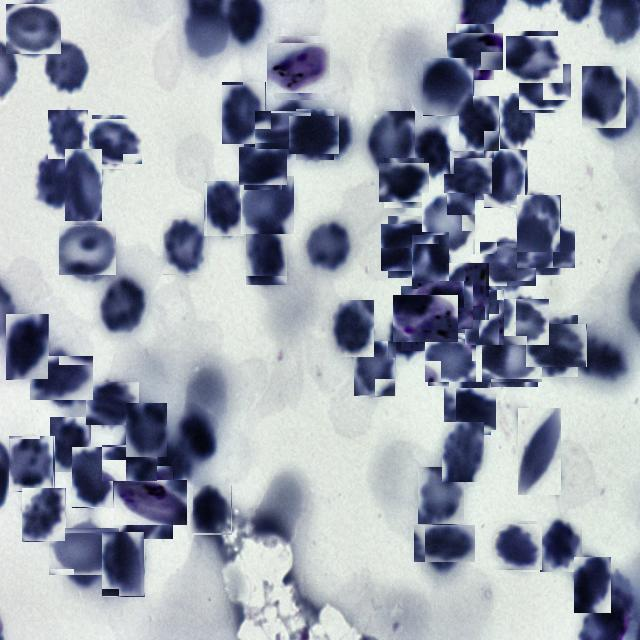red blood cell: (518, 408, 561, 495), (55, 522, 113, 582), (422, 193, 476, 255), (484, 328, 540, 384), (366, 111, 415, 175), (241, 176, 294, 234), (423, 58, 474, 116), (61, 223, 115, 277), (384, 220, 438, 274), (35, 351, 89, 405), (98, 276, 148, 334), (7, 2, 60, 56), (6, 314, 49, 380), (102, 532, 145, 597), (222, 82, 266, 145), (508, 33, 560, 86), (530, 319, 582, 372), (582, 66, 626, 128), (520, 220, 572, 272), (495, 296, 547, 348), (420, 279, 472, 331), (304, 218, 353, 273), (65, 149, 102, 221), (418, 467, 464, 524), (34, 151, 76, 213), (8, 436, 54, 492), (72, 447, 114, 508), (246, 225, 288, 286), (484, 150, 528, 208), (517, 195, 561, 253), (446, 263, 490, 321), (43, 39, 90, 93), (163, 219, 208, 275), (442, 422, 484, 482), (482, 240, 532, 290), (520, 62, 570, 112), (90, 116, 140, 166), (331, 300, 374, 357), (419, 518, 468, 568), (538, 518, 582, 572), (22, 488, 66, 542), (88, 379, 137, 427), (259, 105, 307, 154), (354, 341, 396, 396), (126, 403, 168, 458), (426, 336, 474, 384), (493, 522, 541, 570), (446, 384, 494, 432), (204, 181, 245, 237), (459, 96, 500, 152), (50, 417, 91, 472), (465, 290, 505, 346), (452, 28, 498, 76), (412, 232, 449, 290), (106, 440, 152, 486), (574, 557, 611, 613), (382, 160, 426, 206), (499, 93, 535, 149), (48, 110, 88, 159), (193, 484, 232, 534), (241, 144, 285, 188), (292, 112, 336, 156), (446, 154, 489, 197), (388, 308, 424, 358), (416, 128, 454, 174)
ring: (397, 290, 453, 346)
trophozoite: (120, 473, 180, 532), (270, 40, 328, 96)
